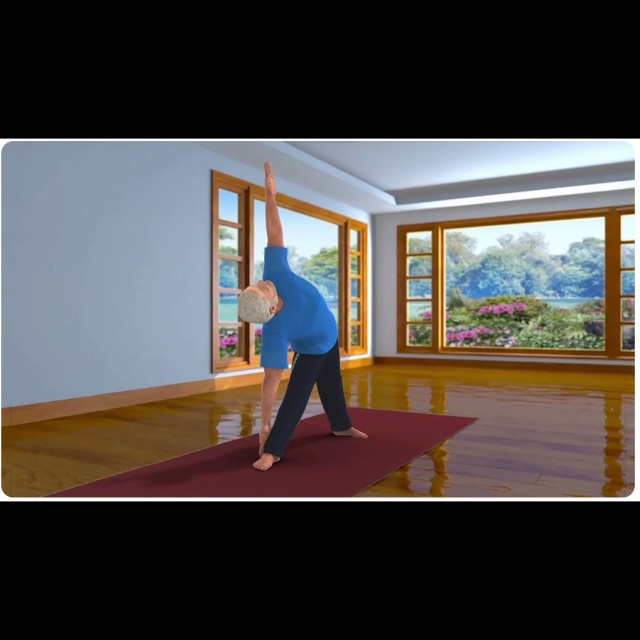Triangle_Pose: (233, 155, 382, 472)
